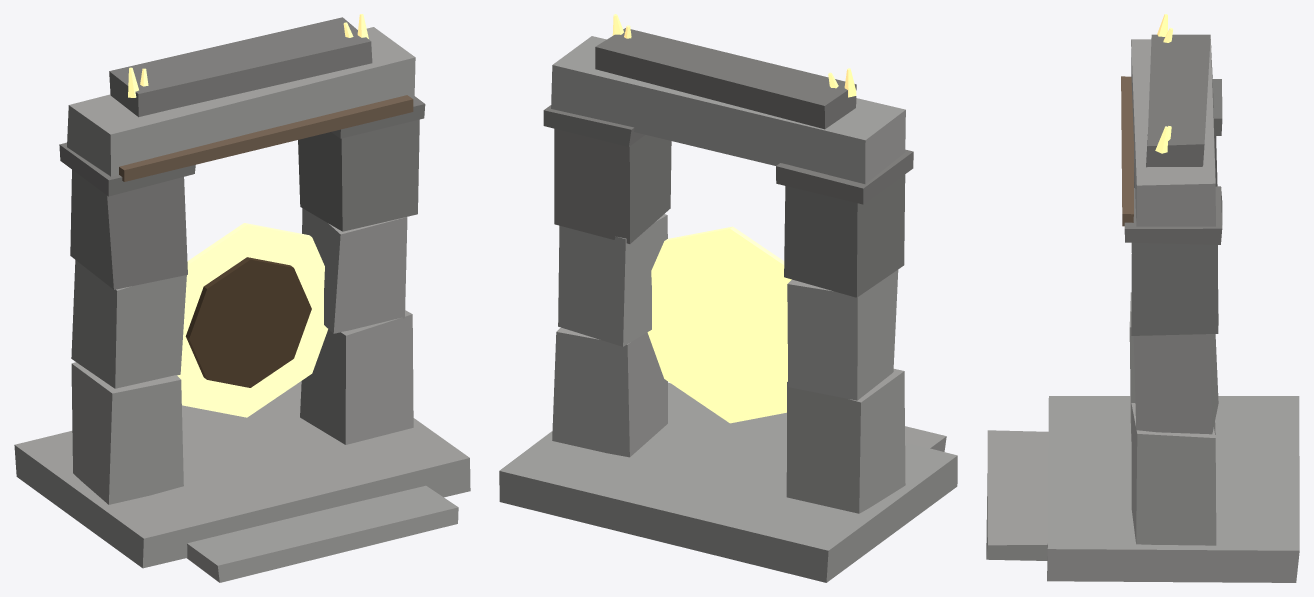
File: Portal_LowPoly.fbx
The picture shows the model from 3 angles, left to right: view 1: azimuth 30°, elevation 25°; view 2: azimuth 150°, elevation 25°; view 3: azimuth 270°, elevation 25°; orthographic projection. The views are drawn at different scales.
Visible parts, largest first — view 1: Portal_Base__PortalStone, Portal_Pillars__PortalStone, Portal_Pillars__PortalStoneDark, Portal_Lintel__PortalStone, Portal_Lintel__PortalStoneDark, Portal_Energy__PortalEnergyCore, Portal_Energy__PortalEnergy, Portal_Lintel__PortalWood, Portal_Crystals__PortalCrystal; view 2: Portal_Pillars__PortalStone, Portal_Base__PortalStone, Portal_Pillars__PortalStoneDark, Portal_Energy__PortalEnergy, Portal_Lintel__PortalStone, Portal_Lintel__PortalStoneDark, Portal_Crystals__PortalCrystal; view 3: Portal_Base__PortalStone, Portal_Pillars__PortalStone, Portal_Pillars__PortalStoneDark, Portal_Lintel__PortalStone, Portal_Lintel__PortalStoneDark, Portal_Lintel__PortalWood, Portal_Crystals__PortalCrystal.
Part boxes in pixels (x1,y1,x2,y2): Portal_Base__PortalStone: [14, 381, 470, 582]; Portal_Pillars__PortalStone: [71, 208, 413, 504]; Portal_Pillars__PortalStoneDark: [59, 96, 425, 289]; Portal_Lintel__PortalStone: [67, 27, 415, 176]; Portal_Lintel__PortalStoneDark: [109, 17, 372, 117]; Portal_Energy__PortalEnergyCore: [185, 257, 311, 387]; Portal_Energy__PortalEnergy: [177, 223, 327, 417]; Portal_Lintel__PortalWood: [119, 95, 413, 181]; Portal_Crystals__PortalCrystal: [128, 14, 368, 97]; Portal_Pillars__PortalStone: [552, 214, 905, 513]; Portal_Base__PortalStone: [499, 382, 957, 582]; Portal_Pillars__PortalStoneDark: [543, 105, 913, 297]; Portal_Energy__PortalEnergy: [647, 226, 791, 423]; Portal_Lintel__PortalStone: [551, 36, 905, 184]; Portal_Lintel__PortalStoneDark: [595, 28, 856, 129]; Portal_Crystals__PortalCrystal: [612, 14, 856, 97]; Portal_Base__PortalStone: [986, 396, 1299, 582]; Portal_Pillars__PortalStone: [1129, 292, 1218, 545]; Portal_Pillars__PortalStoneDark: [1124, 79, 1222, 335]; Portal_Lintel__PortalStone: [1131, 39, 1215, 226]; Portal_Lintel__PortalStoneDark: [1146, 34, 1210, 167]; Portal_Lintel__PortalWood: [1121, 76, 1133, 226]; Portal_Crystals__PortalCrystal: [1155, 14, 1172, 153].
Bounding box in the file's own units: 383 × 502 × 327.
